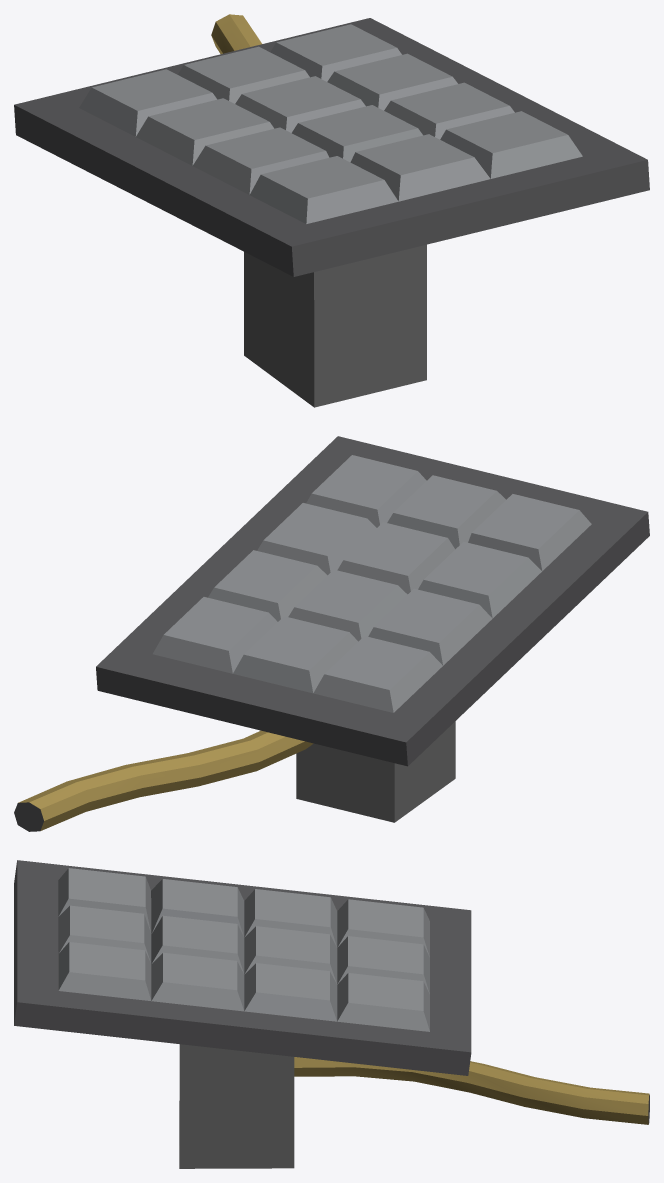
The model's file is keypad1_fbx.fbx.
3 renders of one model, top to bottom at view 1: azimuth 30°, elevation 25°; view 2: azimuth 150°, elevation 25°; view 3: azimuth 270°, elevation 25°, orthographic. The views are drawn at different scales.
Visible parts, largest first — view 1: pCube10; view 2: pCube10; view 3: pCube10.
Boxes of the visible parts, bbox=[...] form: pCube10: bbox=[14, 14, 649, 407]; pCube10: bbox=[14, 436, 649, 831]; pCube10: bbox=[14, 860, 649, 1168].
Size of the model in its own units: 45.58 by 33.83 by 86.19.
